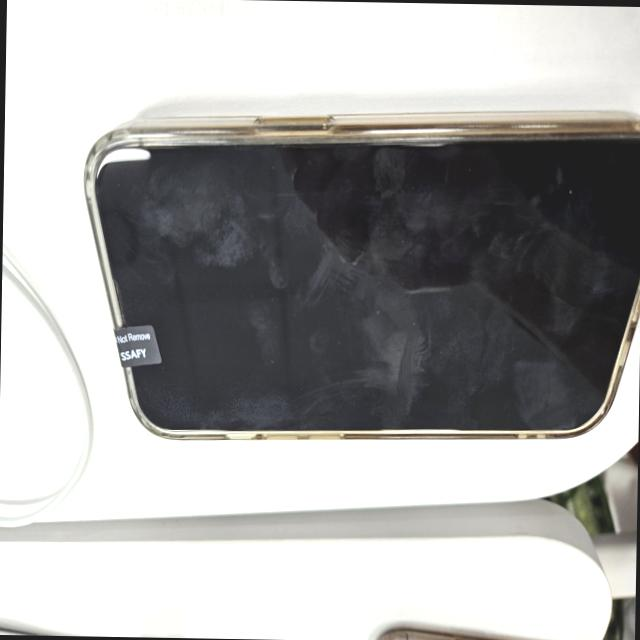phone: (76, 103, 640, 439)
sticker: (112, 320, 161, 372)
